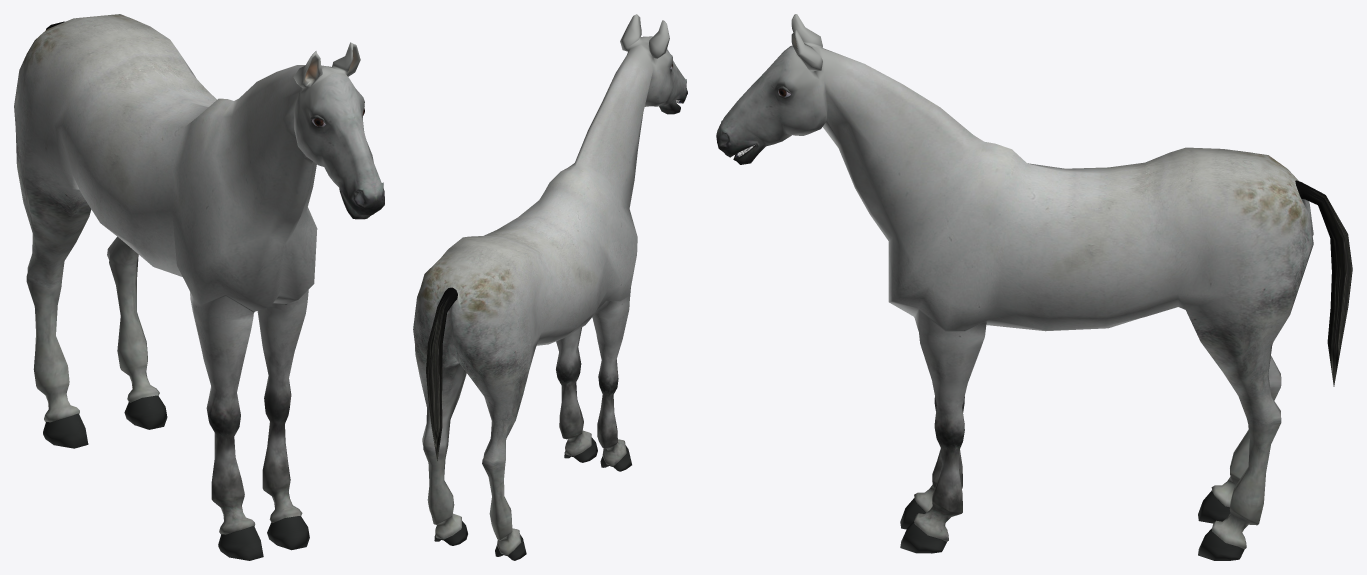
File: Horse.obj
3 views of the same model, side by side, from view 1: azimuth 30°, elevation 25°; view 2: azimuth 150°, elevation 25°; view 3: azimuth 270°, elevation 25° (orthographic). The views are drawn at different scales.
Visible parts, largest first — view 1: Horse_Horse_Horse_Body; view 2: Horse_Horse_Horse_Body; view 3: Horse_Horse_Horse_Body.
Boxes of the visible parts, left/top/right/bottom form: Horse_Horse_Horse_Body: left=14, top=14, right=384, bottom=560; Horse_Horse_Horse_Body: left=413, top=14, right=687, bottom=560; Horse_Horse_Horse_Body: left=716, top=14, right=1352, bottom=560.
Bounding box in the file's own units: 2.23 × 7.92 × 8.9.
Materials: 4 (2 with a texture image).
